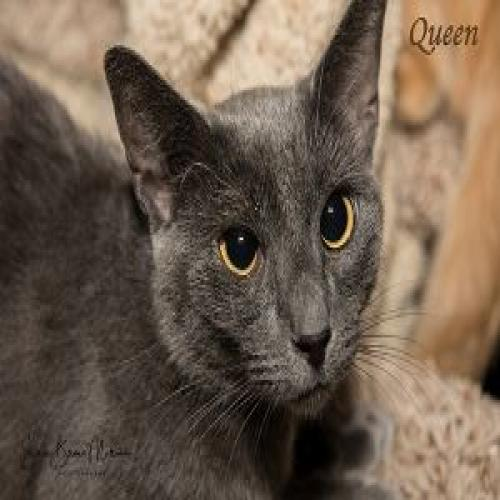rblue: (103, 1, 395, 434)
